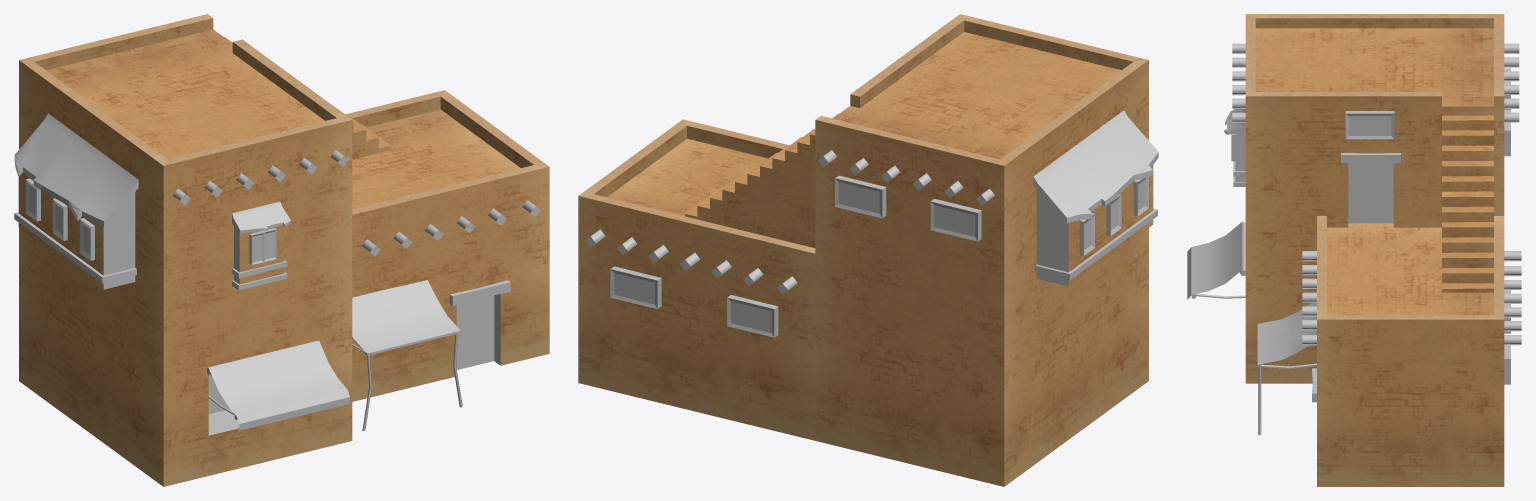
Rendered from House_04.fbx.
The picture shows the model from 3 angles, left to right: view 1: azimuth 30°, elevation 25°; view 2: azimuth 150°, elevation 25°; view 3: azimuth 270°, elevation 25°; orthographic projection. The views are drawn at different scales.
Visible parts, largest first — view 1: House_04; view 2: House_04; view 3: House_04.
Boxes of the visible parts, <box> form: House_04: <box>14,14,549,486</box>; House_04: <box>578,14,1158,486</box>; House_04: <box>1187,14,1521,486</box>.
Bounding box in the file's own units: 247 × 161 × 170.
